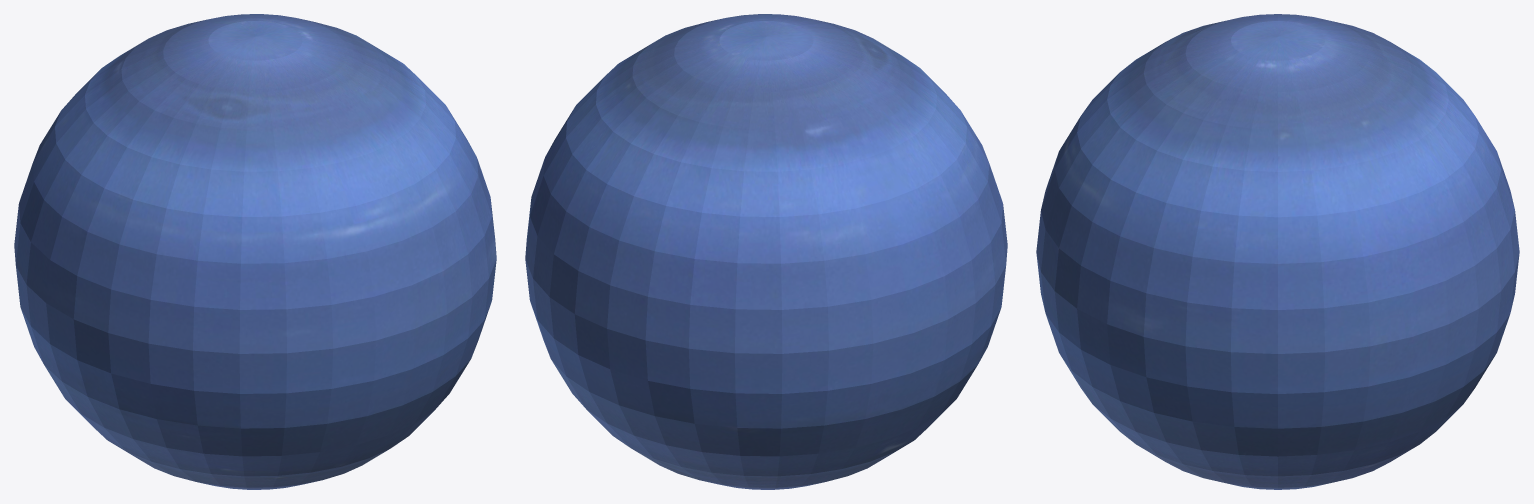
Rendered from neptune.glb.
3 views of the same model, side by side, from view 1: azimuth 30°, elevation 25°; view 2: azimuth 150°, elevation 25°; view 3: azimuth 270°, elevation 25° (orthographic).
Parts seen in each view (by area): view 1: Sphere; view 2: Sphere; view 3: Sphere.
Part boxes in pixels (box(x1,y1,x2,y2)): Sphere: box(14, 14, 496, 489); Sphere: box(525, 14, 1007, 489); Sphere: box(1036, 14, 1519, 489).
Size of the model in its own units: 4.95 by 4.87 by 4.95.
1 material, 1 textured.
